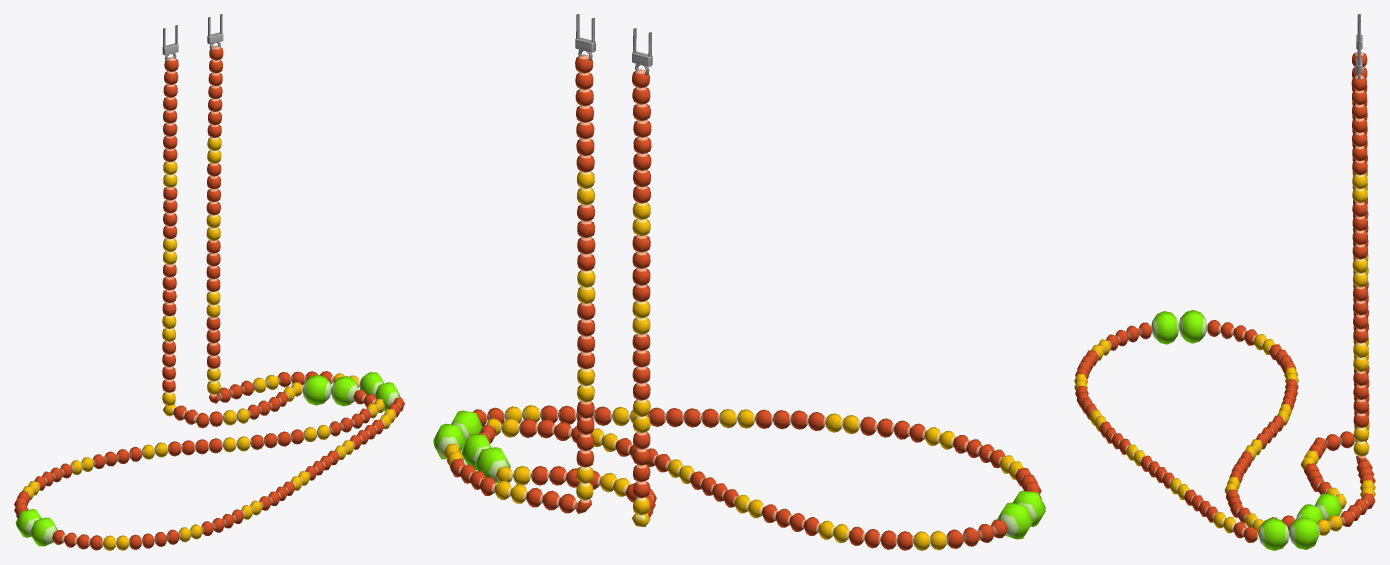
The model's file is Strap02.fbx.
3 renders of one model, left to right at view 1: azimuth 30°, elevation 25°; view 2: azimuth 150°, elevation 25°; view 3: azimuth 270°, elevation 25°, orthographic. The views are drawn at different scales.
Parts seen in each view (by area): view 1: Strap02; view 2: Strap02; view 3: Strap02.
Part boxes in pixels (x1,y1,x2,y2): Strap02: (14, 14, 404, 550); Strap02: (433, 14, 1045, 550); Strap02: (1074, 14, 1375, 550).
Size of the model in its own units: 2574 by 2350 by 1466.
